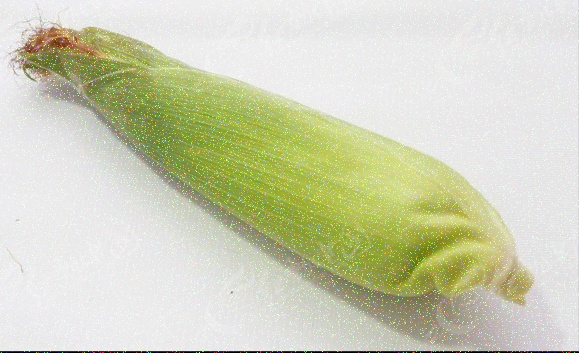corn_plant: (5, 5, 545, 316)
